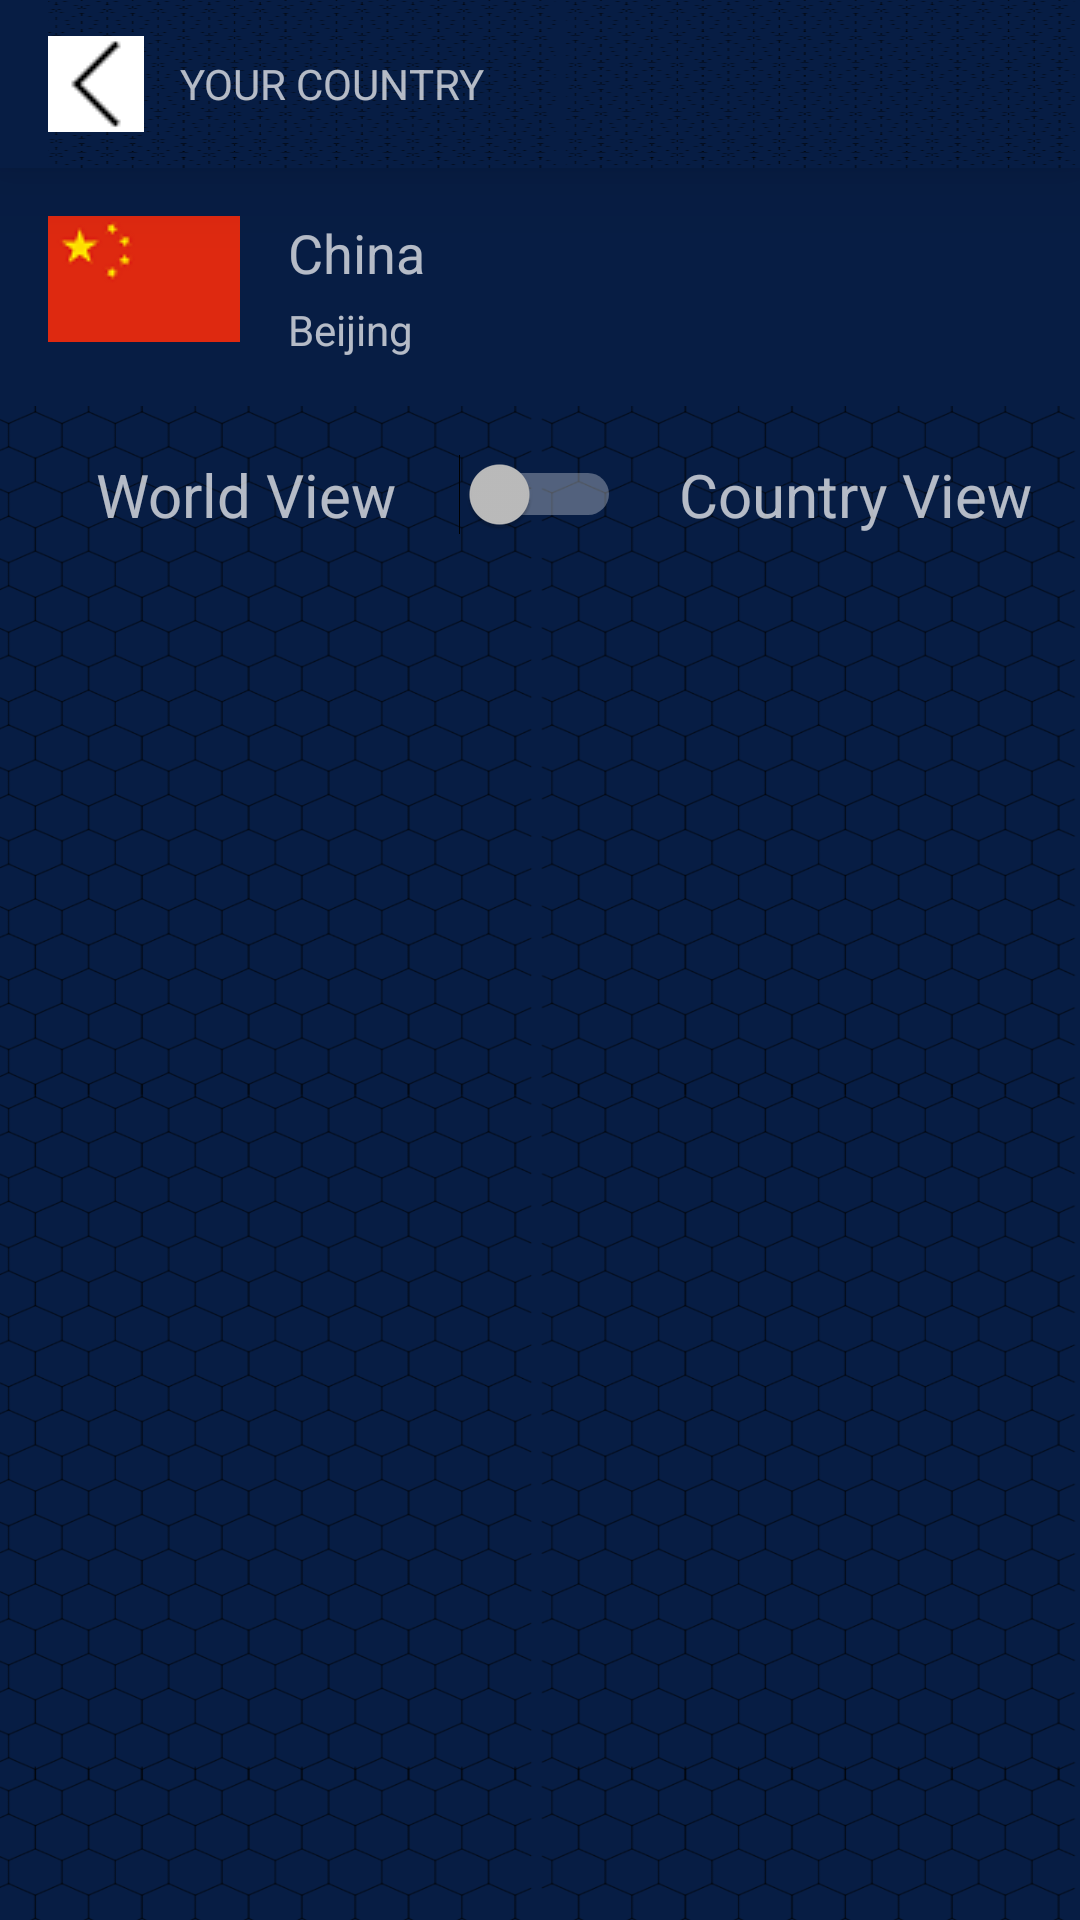

Icons on this 1080w x 1920h Android screen, each with the point to tap as (x,y):
arrows back: (96,84)
